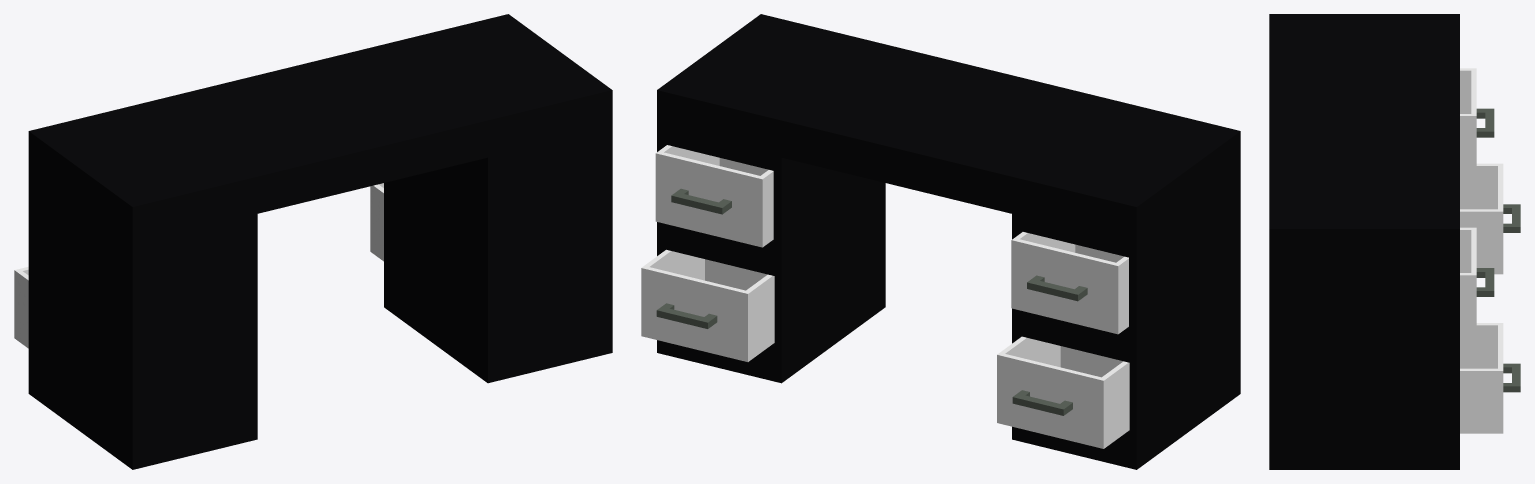
The model's file is Escritorio 4.2.fbx.
3 renders of one model, left to right at view 1: azimuth 30°, elevation 25°; view 2: azimuth 150°, elevation 25°; view 3: azimuth 270°, elevation 25°, orthographic. The views are drawn at different scales.
Parts seen in each view (by area): view 1: ESCRITORIO, CAJON4, CAJON2; view 2: ESCRITORIO, CAJON2, CAJON4, CAJON1, CAJON3; view 3: ESCRITORIO, CAJON2, CAJON4, CAJON3, CAJON1.
Boxes of the visible parts, x1,y1,x2,y2 form: ESCRITORIO: [28, 14, 612, 469]; CAJON4: [14, 266, 28, 348]; CAJON2: [370, 183, 383, 261]; ESCRITORIO: [657, 14, 1240, 469]; CAJON2: [641, 249, 774, 361]; CAJON4: [997, 336, 1129, 448]; CAJON1: [655, 145, 773, 247]; CAJON3: [1011, 232, 1128, 334]; ESCRITORIO: [1269, 14, 1459, 469]; CAJON2: [1460, 323, 1520, 433]; CAJON4: [1460, 163, 1520, 274]; CAJON3: [1460, 68, 1494, 178]; CAJON1: [1460, 227, 1494, 337].
Bounding box in the file's own units: 120 × 62.56 × 59.17.
1 material, 1 textured.
